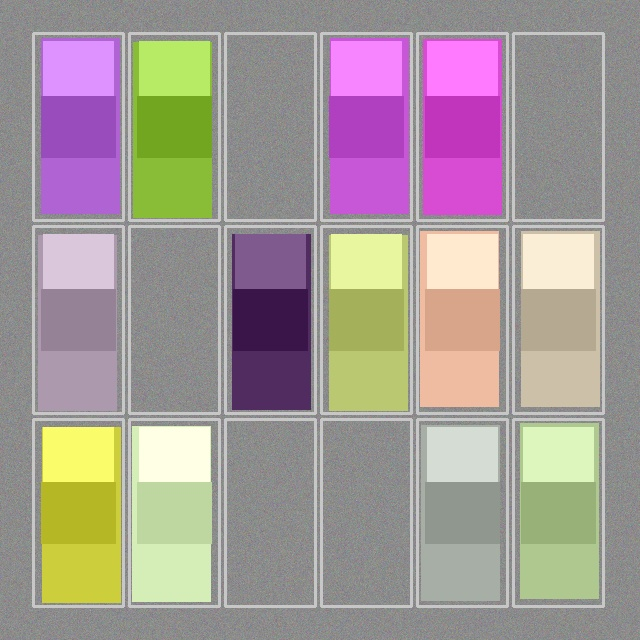space-empty: (227, 35, 313, 218), (515, 35, 601, 218), (131, 228, 217, 411), (227, 421, 313, 604), (323, 421, 409, 604)
space-occupied: (35, 35, 121, 218), (131, 35, 217, 218), (323, 35, 409, 218), (419, 35, 505, 218), (35, 228, 121, 411), (227, 228, 313, 411), (323, 228, 409, 411), (419, 228, 505, 411), (515, 228, 601, 411), (35, 421, 121, 604), (131, 421, 217, 604), (419, 421, 505, 604), (515, 421, 601, 604)
